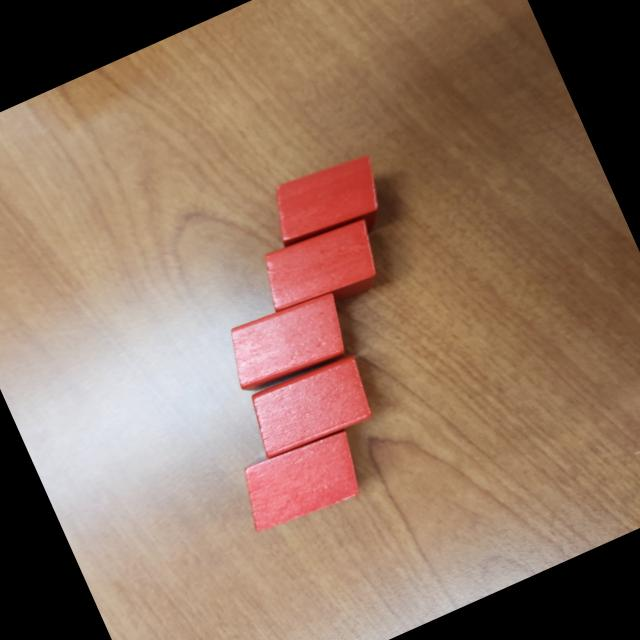red: (252, 210, 394, 330), (215, 284, 360, 401), (230, 424, 372, 541), (240, 350, 383, 466), (262, 146, 392, 252)
